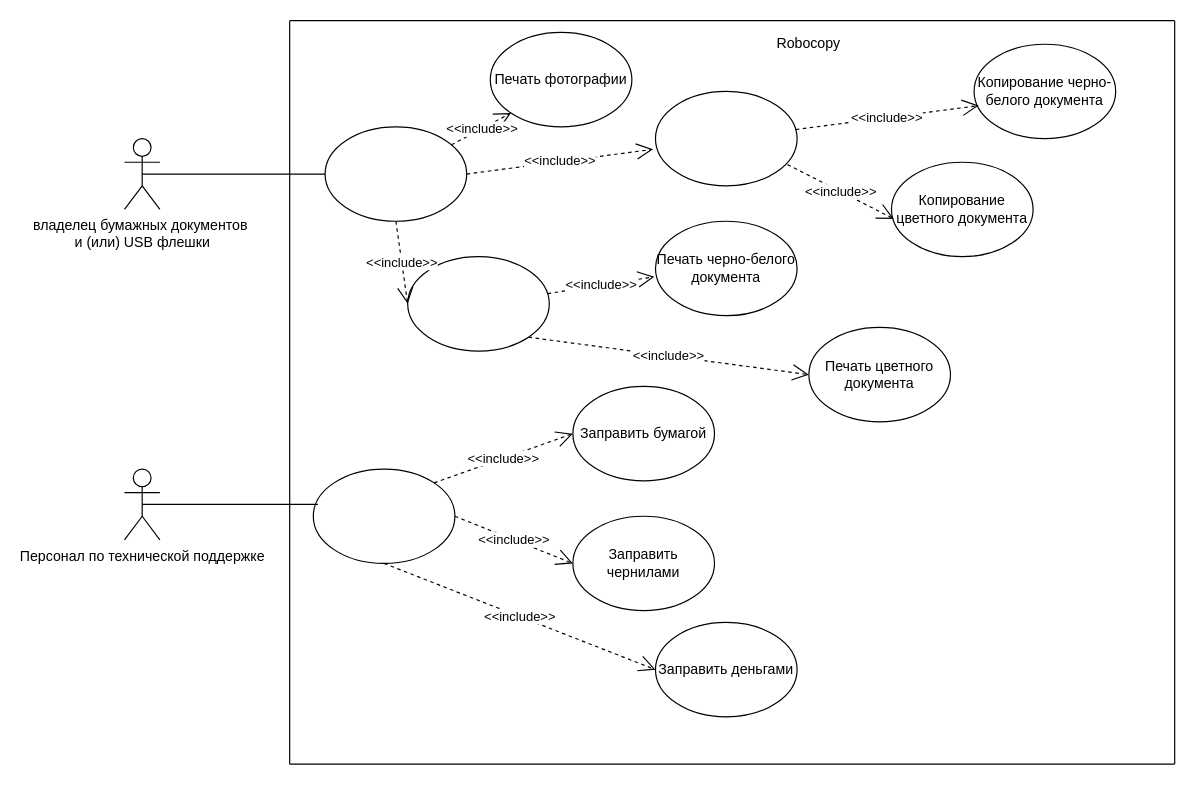
Image size: 1197x786. Some labels were removed from this diagram. Here are the shapes that lost their labels. From the top down, the centre of each, then its label:
At point (725, 138): "Копирование бумажного документа".
At point (395, 173): "Совершить операцию над документом".
At point (478, 303): "Печать электронного документа".
At point (383, 515): "Заправить robocopy".
